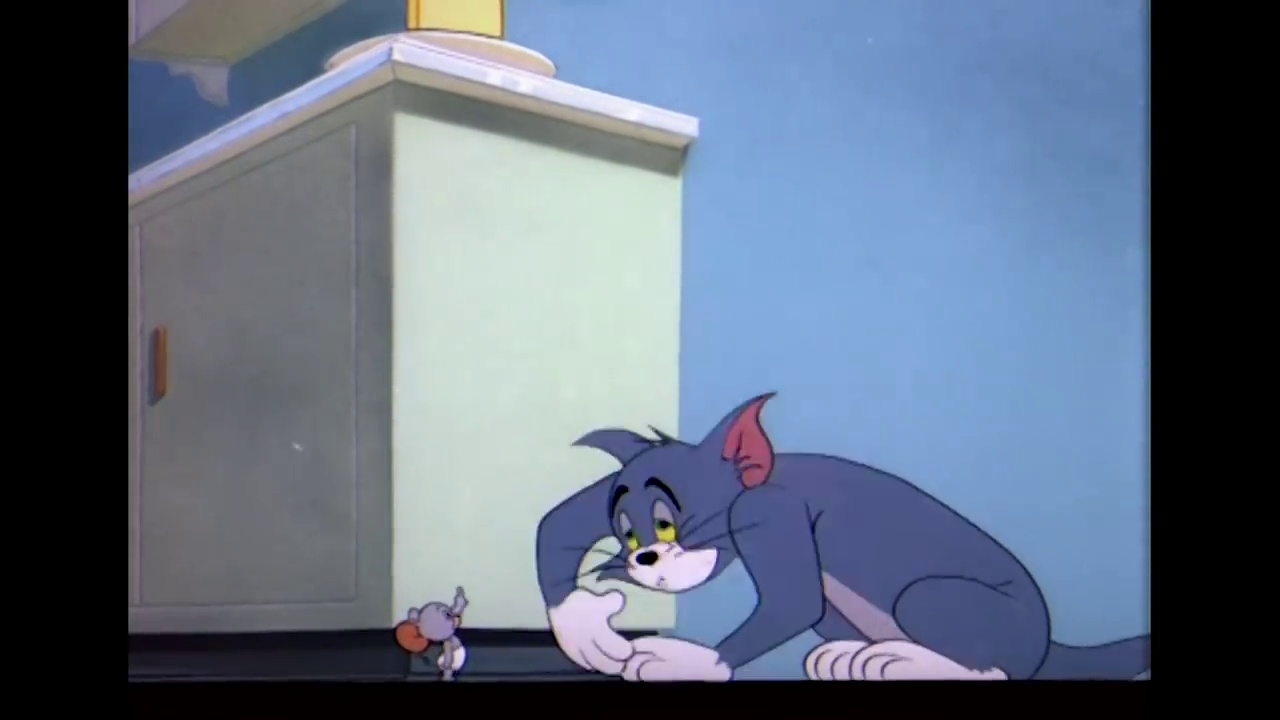tom: (562, 382, 777, 595)
